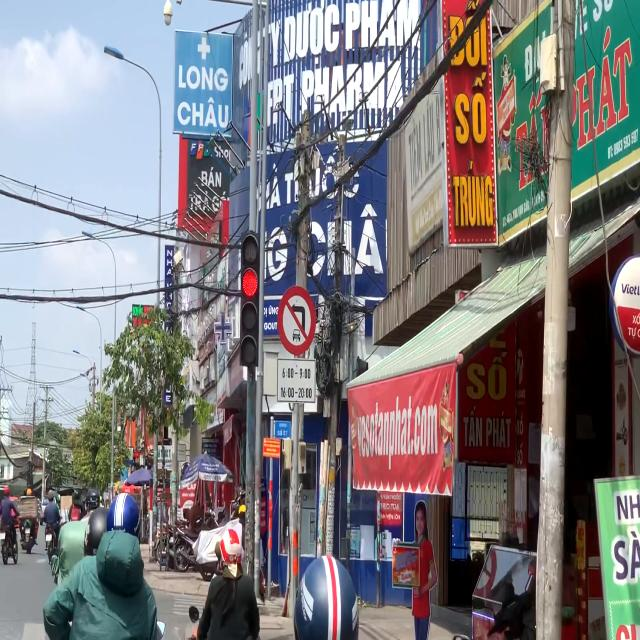P.103c: (277, 285, 316, 356)
